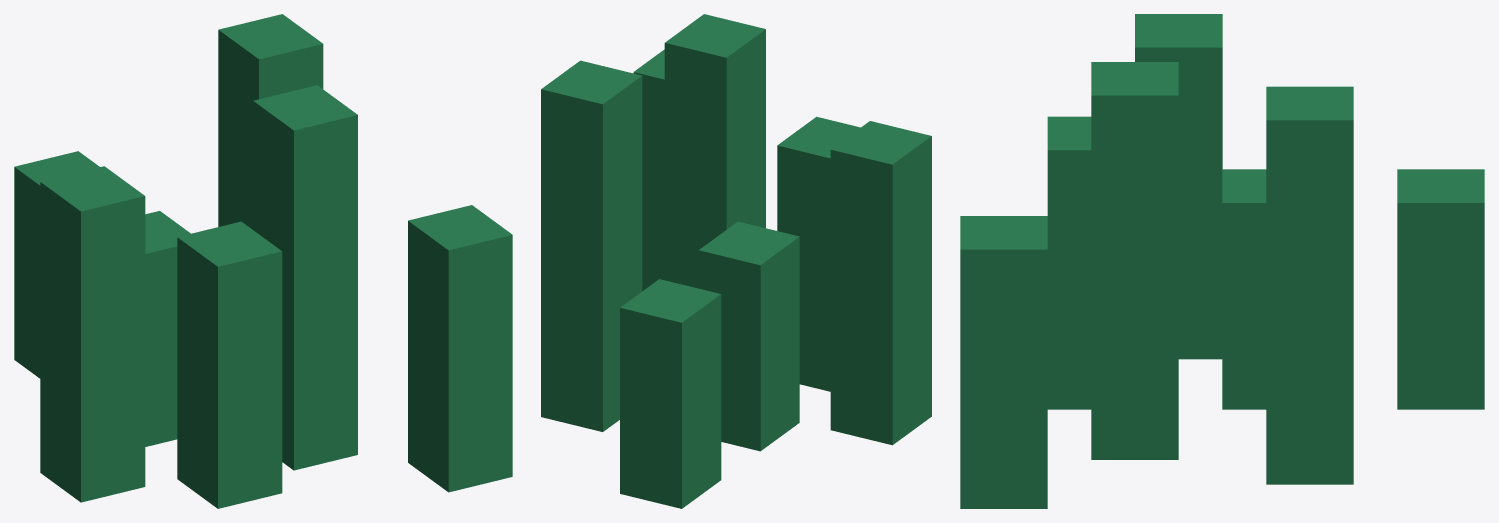
File: trawa_cala.fbx
3 views of the same model, side by side, from view 1: azimuth 30°, elevation 25°; view 2: azimuth 150°, elevation 25°; view 3: azimuth 270°, elevation 25° (orthographic). The views are drawn at different scales.
Visible parts, largest first — view 1: Cube.005; view 2: Cube.005; view 3: Cube.005.
Part boxes in pixels (bbox=[...]): Cube.005: bbox=[14, 14, 512, 508]; Cube.005: bbox=[541, 14, 931, 508]; Cube.005: bbox=[960, 14, 1484, 508].
Size of the model in its own units: 748 by 694 by 905.
